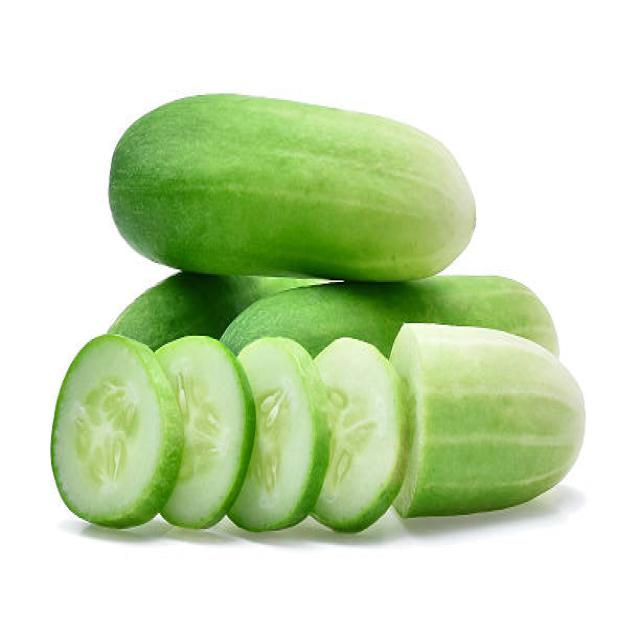cucumber: (106, 90, 478, 284), (386, 325, 586, 517)
